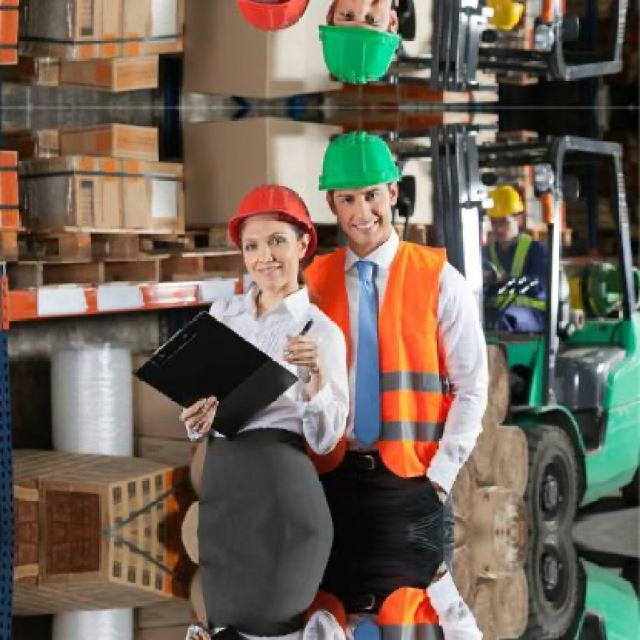con casco: (223, 190, 325, 322), (328, 145, 422, 248)
